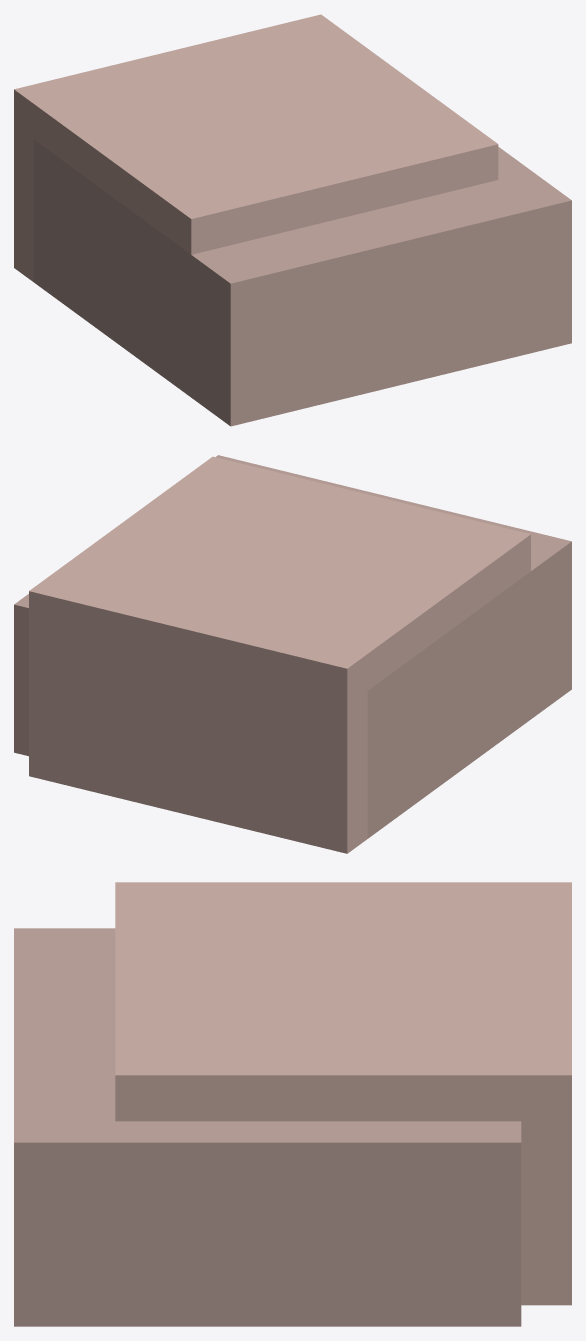
File: roca_coralina_04.glb
3 renders of one model, top to bottom at view 1: azimuth 30°, elevation 25°; view 2: azimuth 150°, elevation 25°; view 3: azimuth 270°, elevation 25°, orthographic. The views are drawn at different scales.
Parts seen in each view (by area): view 1: roca_coralina_04; view 2: roca_coralina_04; view 3: roca_coralina_04.
Part boxes in pixels (x1,y1,x2,y2): roca_coralina_04: [14, 14, 571, 426]; roca_coralina_04: [14, 455, 571, 853]; roca_coralina_04: [14, 882, 571, 1326].
Bounding box in the file's own units: 1 × 0.5 × 1.1.
